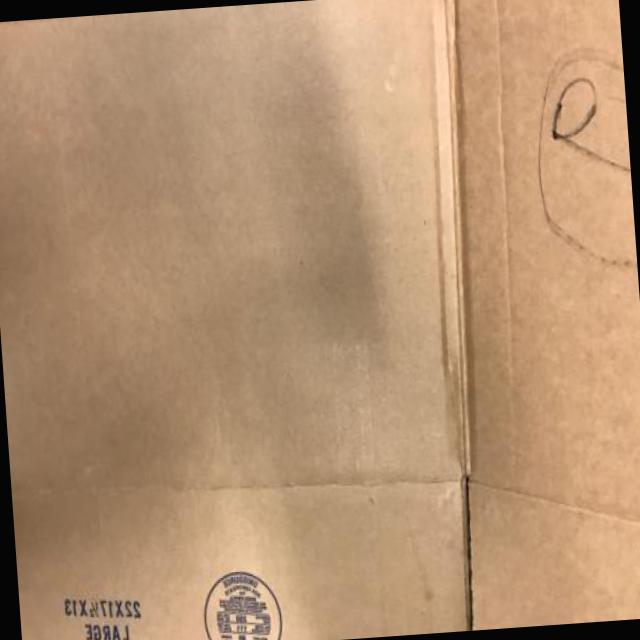cardboard: (0, 0, 639, 639), (0, 0, 466, 639), (455, 0, 639, 629)
